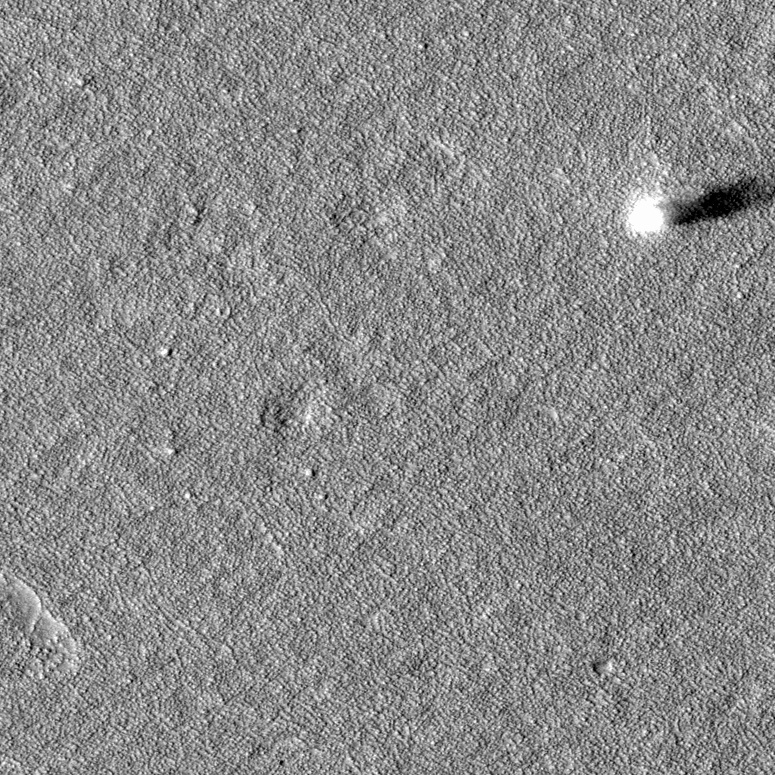dust_devil: (625, 172, 775, 239)
